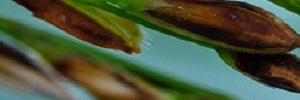RiceSheathBrownRot: (51, 1, 300, 50)
